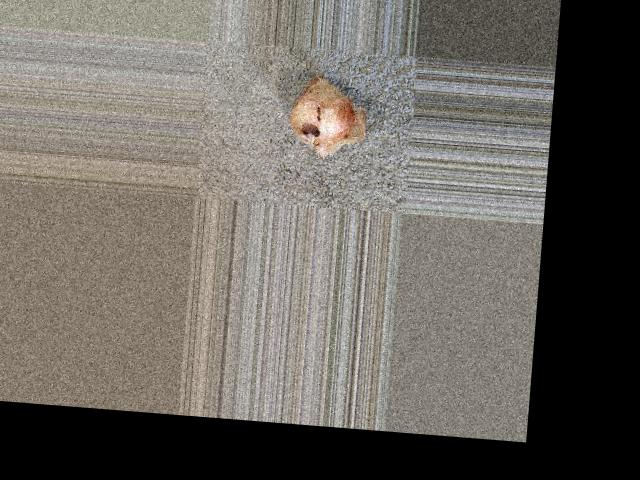onion: (286, 77, 356, 148)
